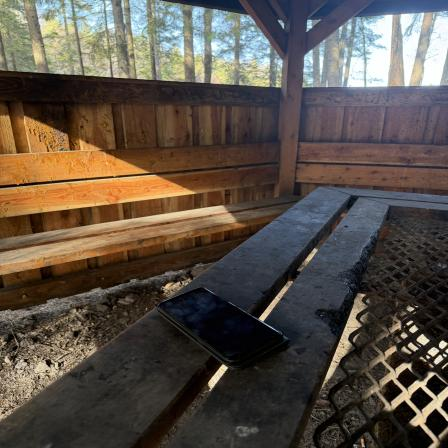phone: (156, 287, 293, 369)
